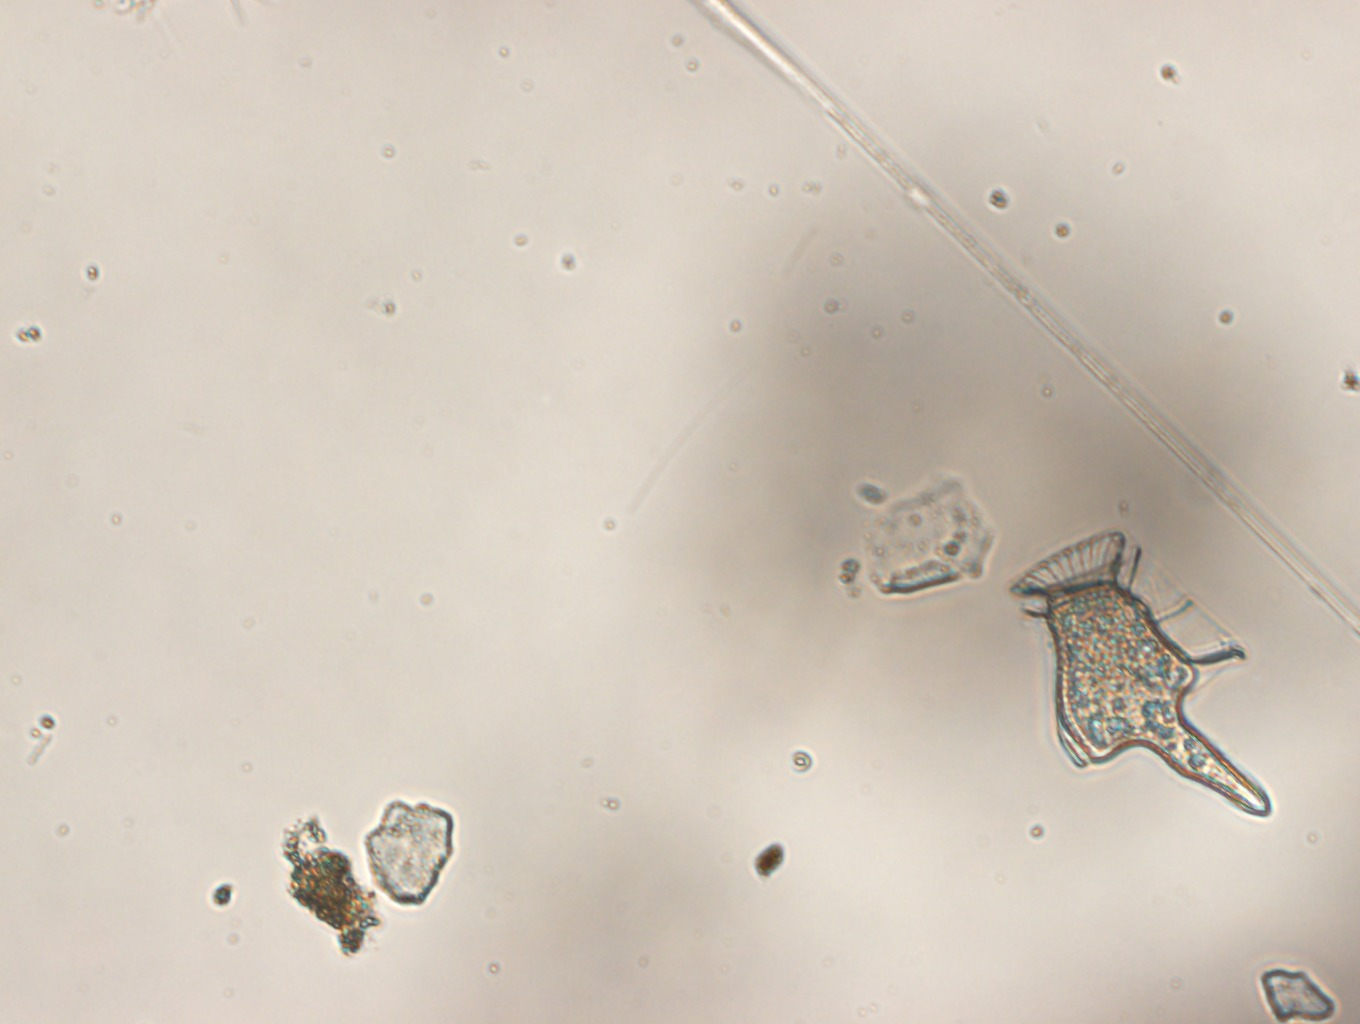dinophysis caudata: (1008, 531, 1277, 821)
